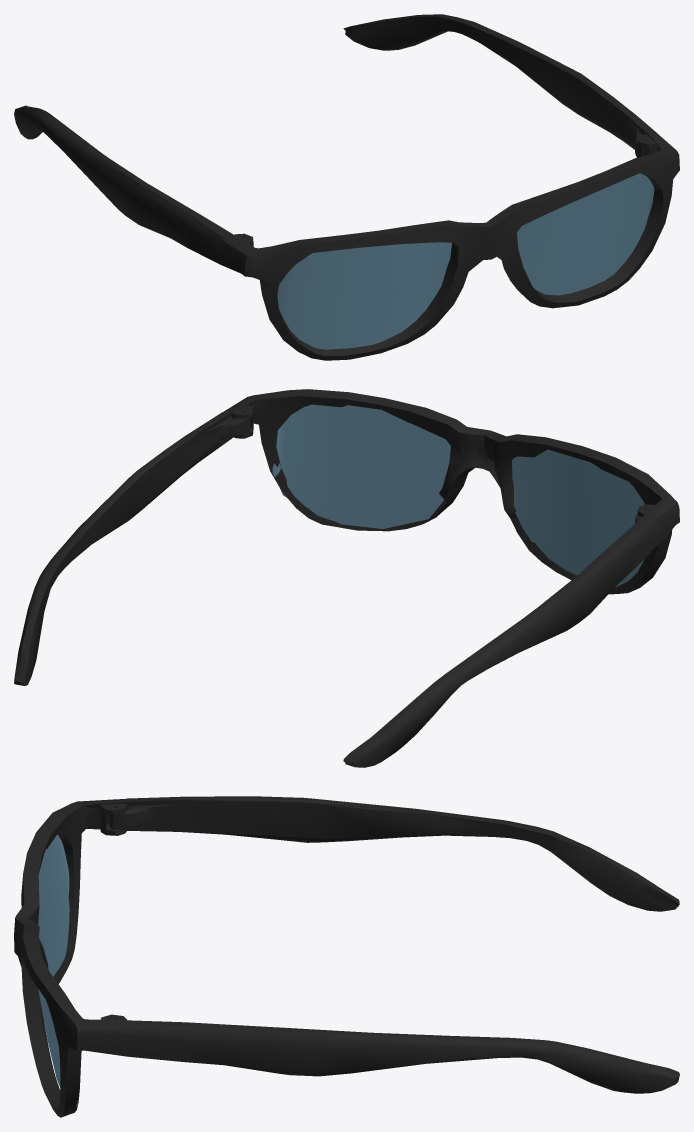
File: constructor_face_model_2.gltf
3 renders of one model, top to bottom at view 1: azimuth 30°, elevation 25°; view 2: azimuth 150°, elevation 25°; view 3: azimuth 270°, elevation 25°, orthographic. The views are drawn at different scales.
Visible parts, largest first — view 1: right_duga; view 2: right_duga; view 3: right_duga.
Part boxes in pixels (<box>): right_duga: <box>14,14,679,360</box>; right_duga: <box>14,389,679,767</box>; right_duga: <box>14,796,679,1117</box>.
Size of the model in its own units: 17.44 by 4.68 by 20.48.
